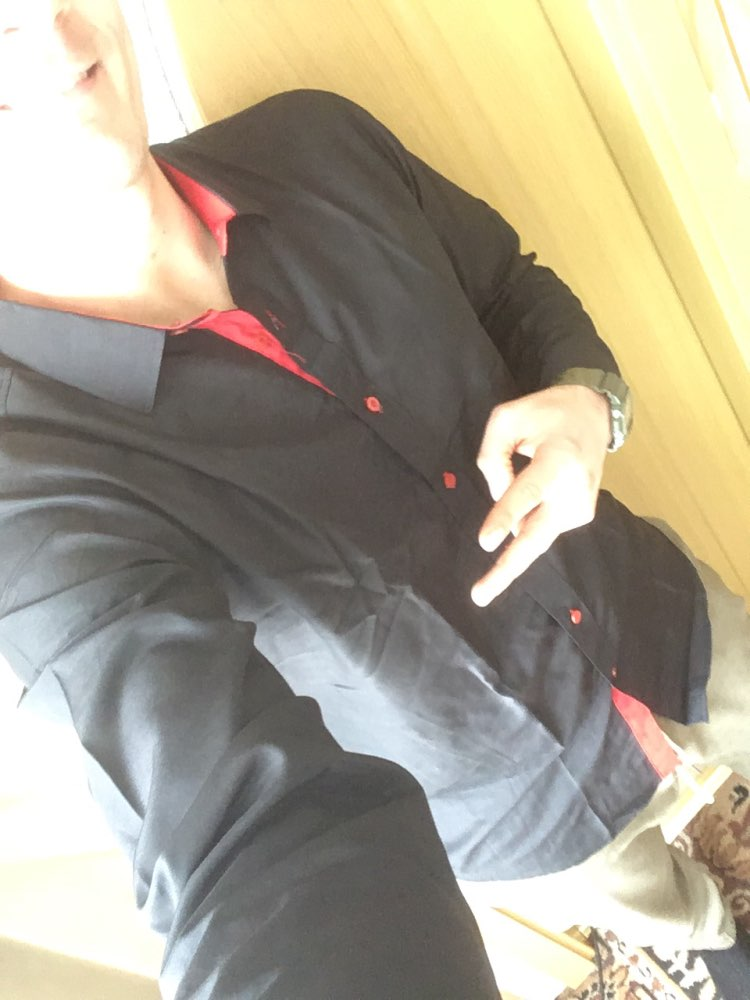shirts: (6, 86, 710, 1000)
